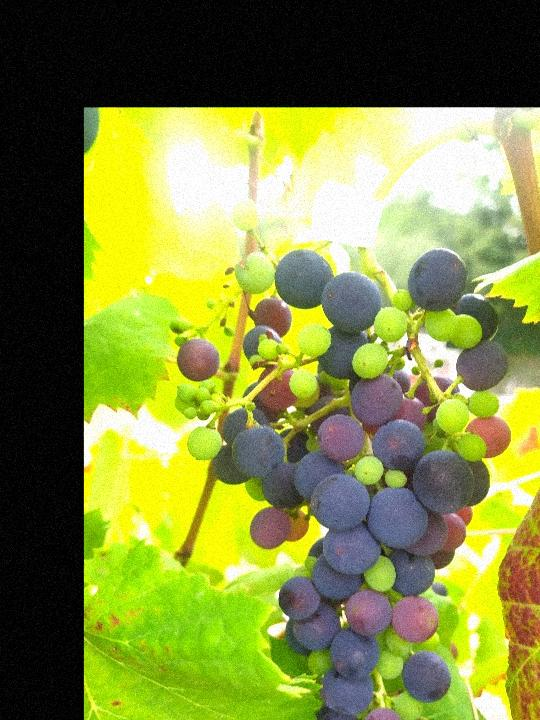grape: (173, 193, 514, 720)
